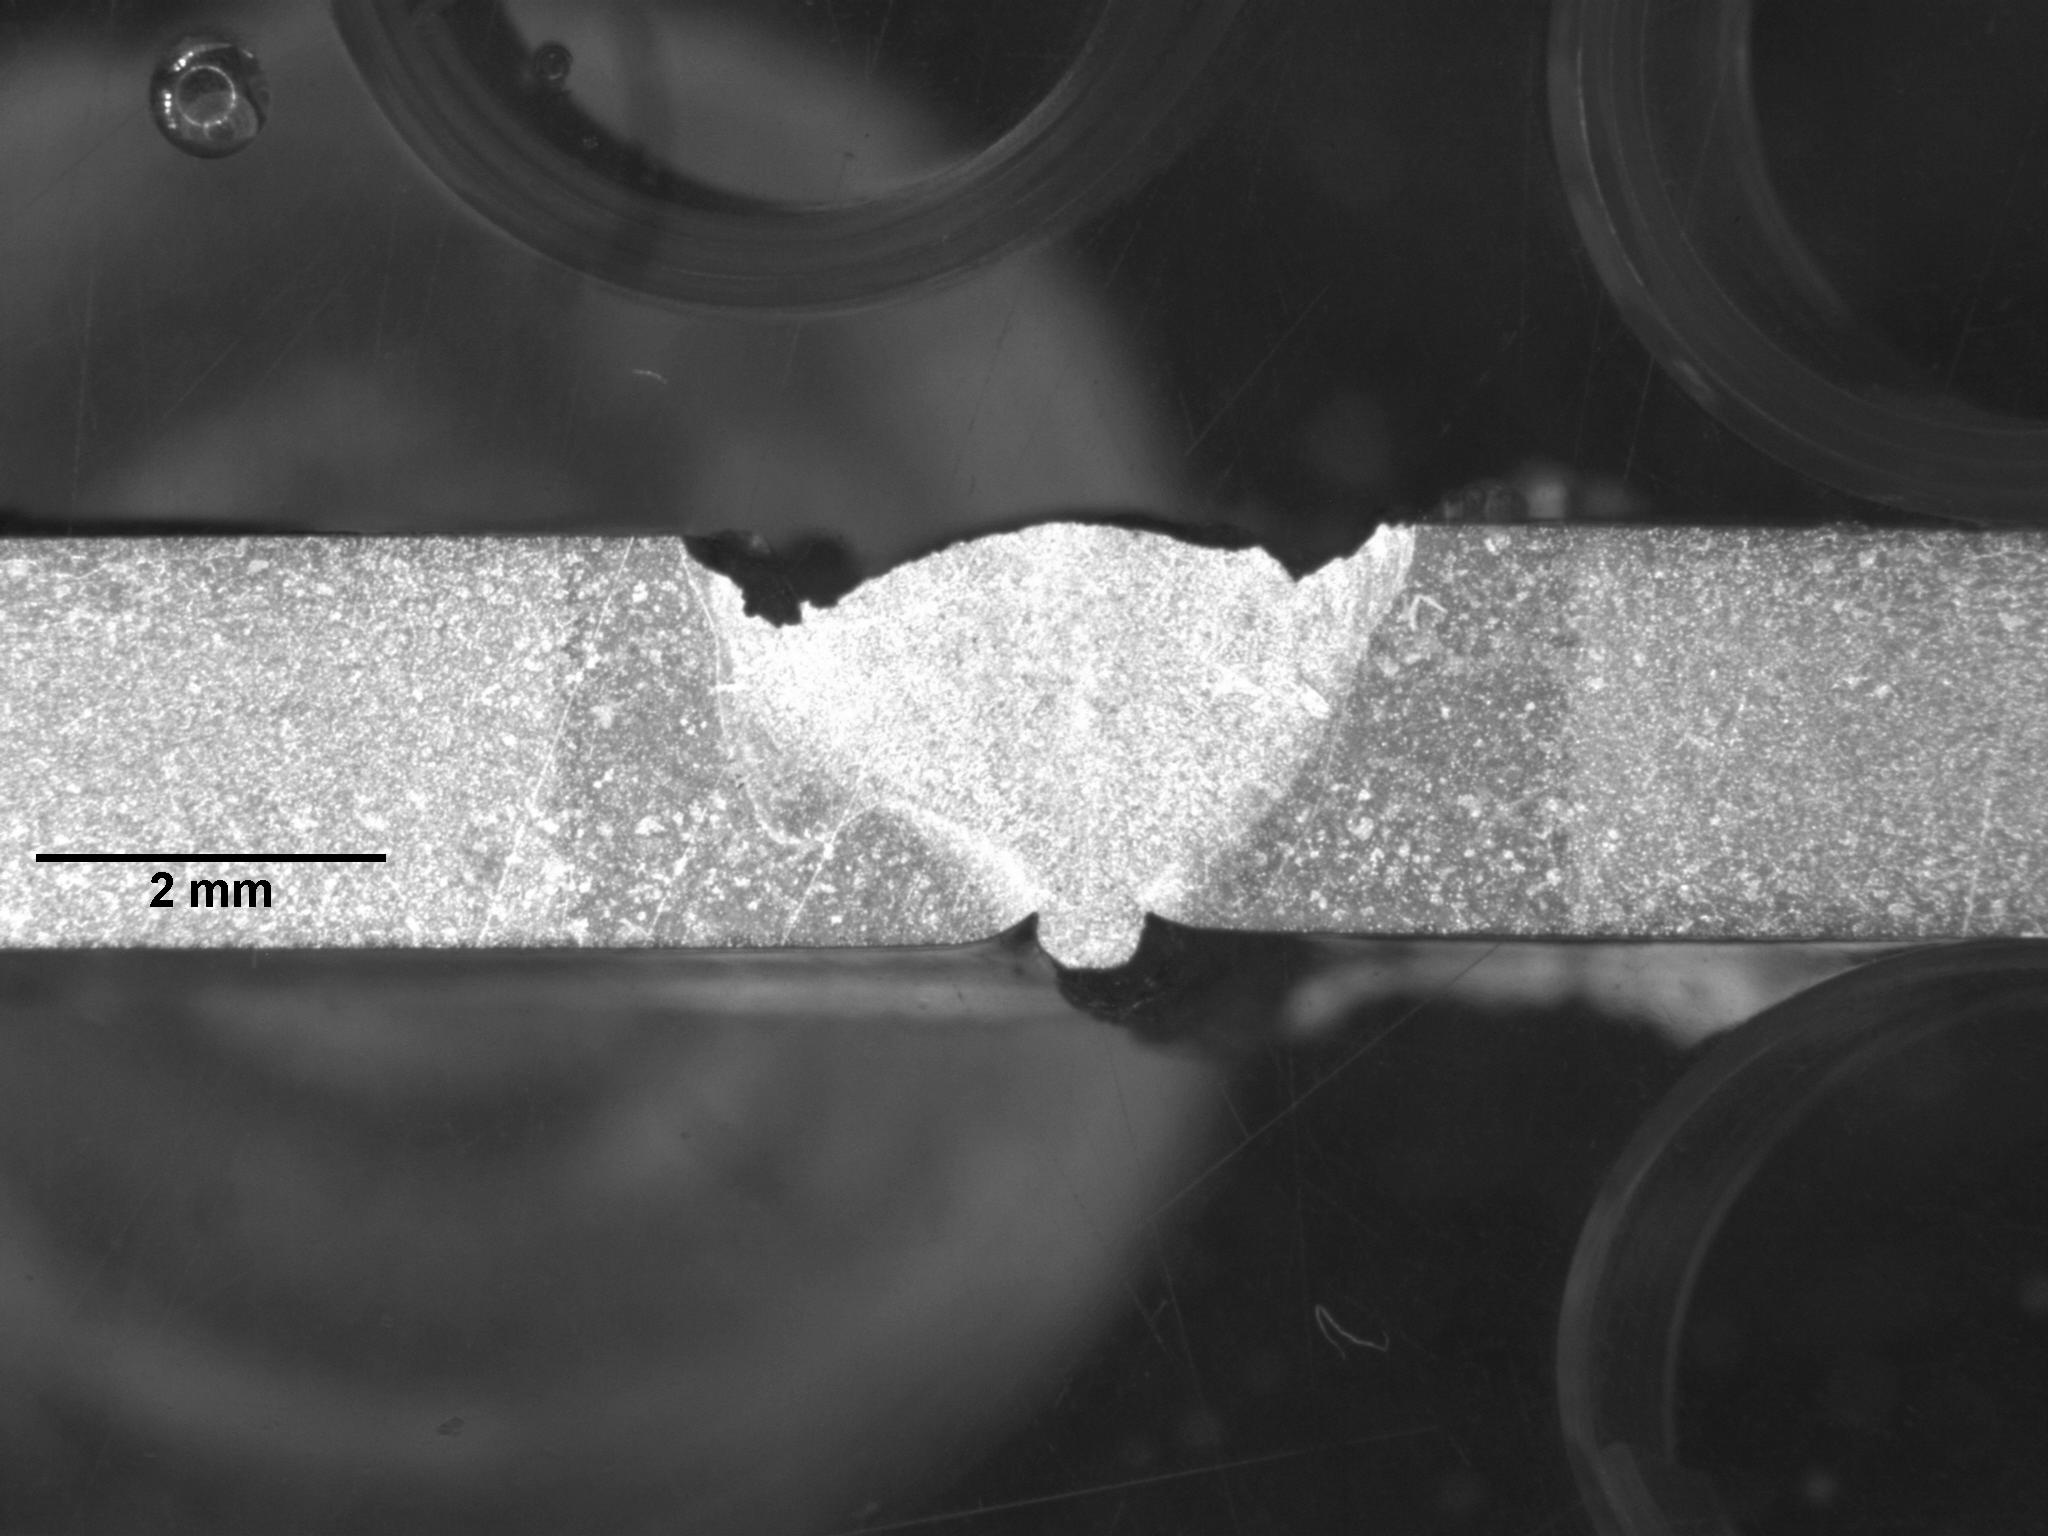Scale-bar: (23, 837, 397, 913)
